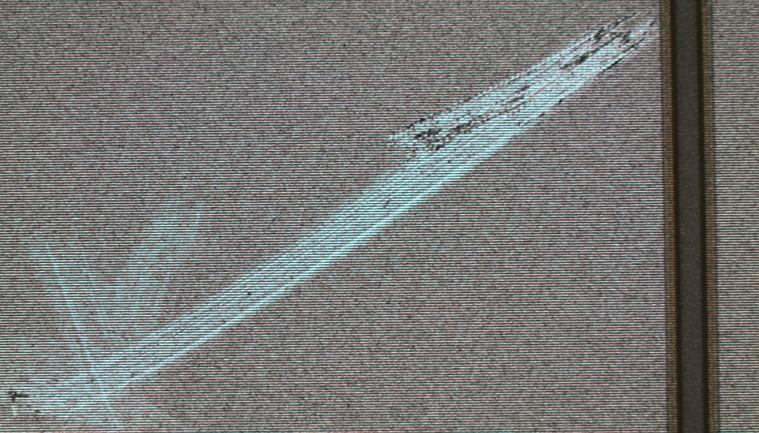SCRATCH: (1, 1, 687, 433)
